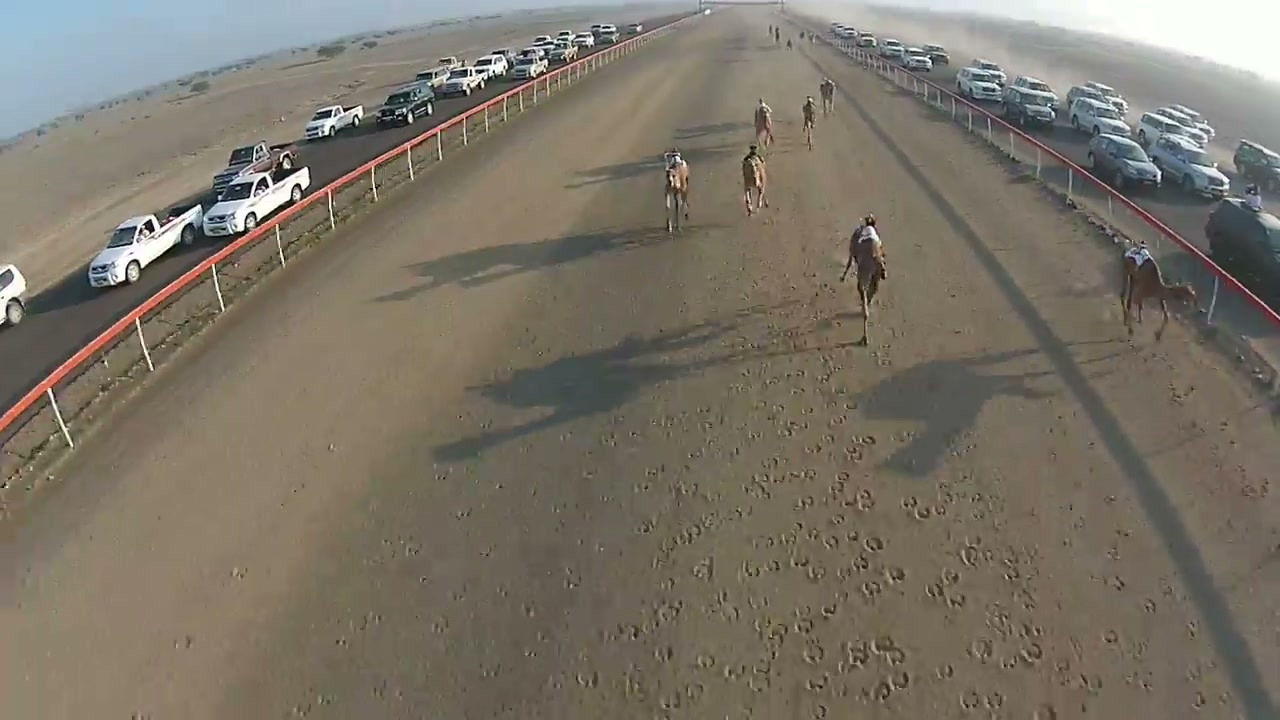animal_foot_print: (628, 282, 1040, 700)
